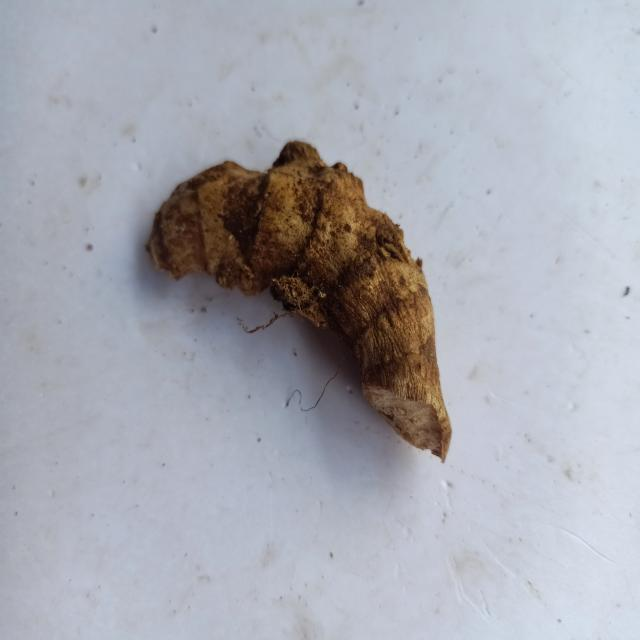Ginger: (146, 140, 452, 460)
